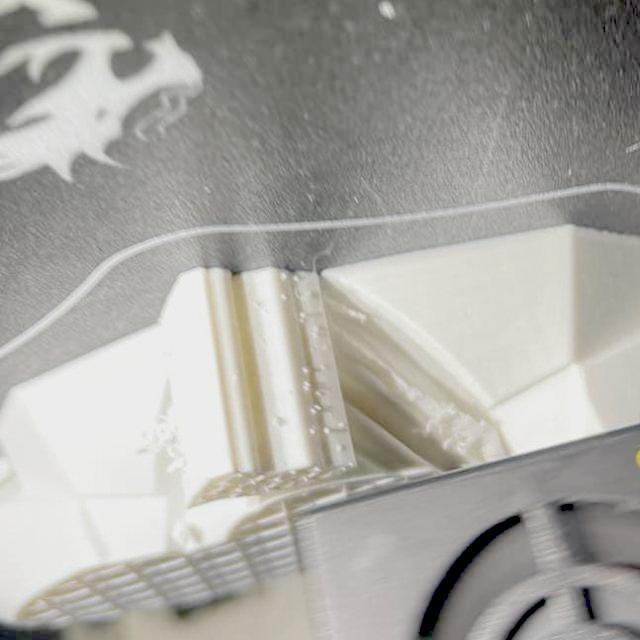zits: (268, 412, 288, 428), (294, 307, 312, 323), (302, 380, 316, 396), (310, 324, 322, 342), (277, 267, 289, 285), (321, 423, 335, 437), (334, 418, 348, 432), (311, 402, 325, 416), (276, 288, 290, 302), (298, 363, 312, 376), (318, 360, 330, 374), (334, 442, 346, 454), (306, 425, 318, 437), (292, 272, 301, 282)
